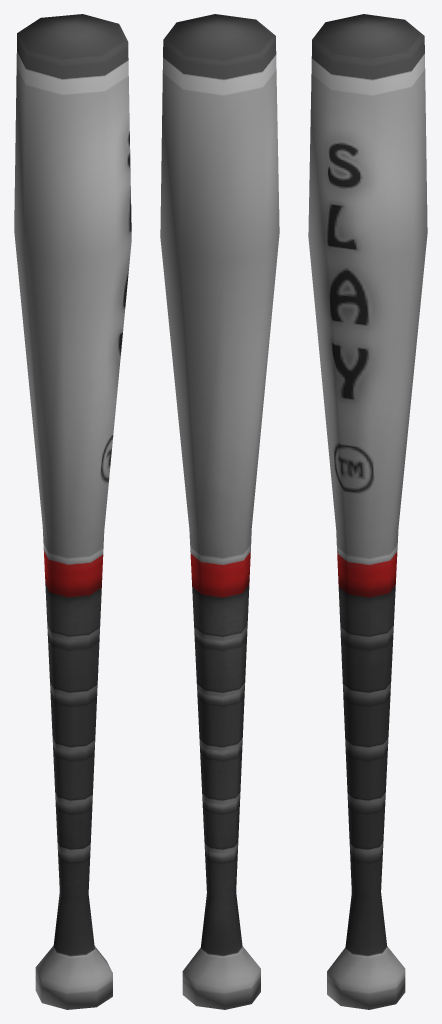
The model's file is baseball_bat.fbx.
3 views of the same model, side by side, from view 1: azimuth 90°, elevation 25°; view 2: azimuth 150°, elevation 25°; view 3: azimuth 330°, elevation 25° (orthographic).
Visible parts, largest first — view 1: baseball_bat; view 2: baseball_bat; view 3: baseball_bat.
Part boxes in pixels (box(x1,y1,x2,y2)): baseball_bat: box(14, 14, 131, 1009); baseball_bat: box(160, 14, 279, 1009); baseball_bat: box(308, 14, 427, 1009).
Size of the model in its own units: 0.8693 by 7.88 by 0.8693.
